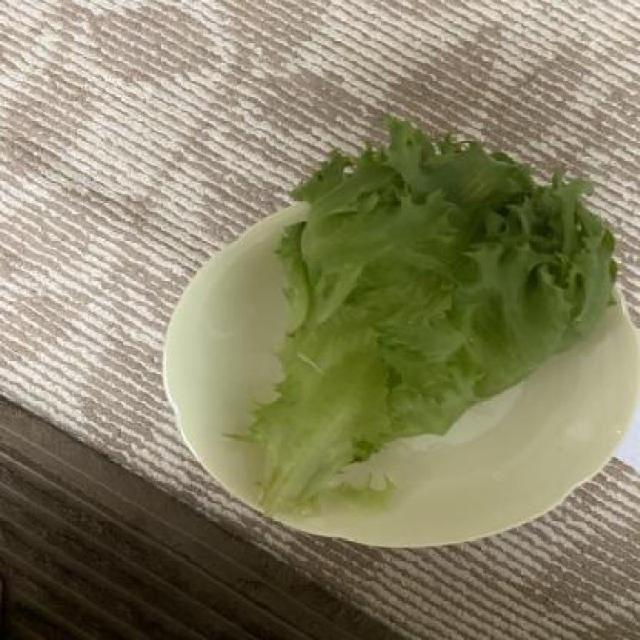Lettuce: (248, 111, 622, 525)
